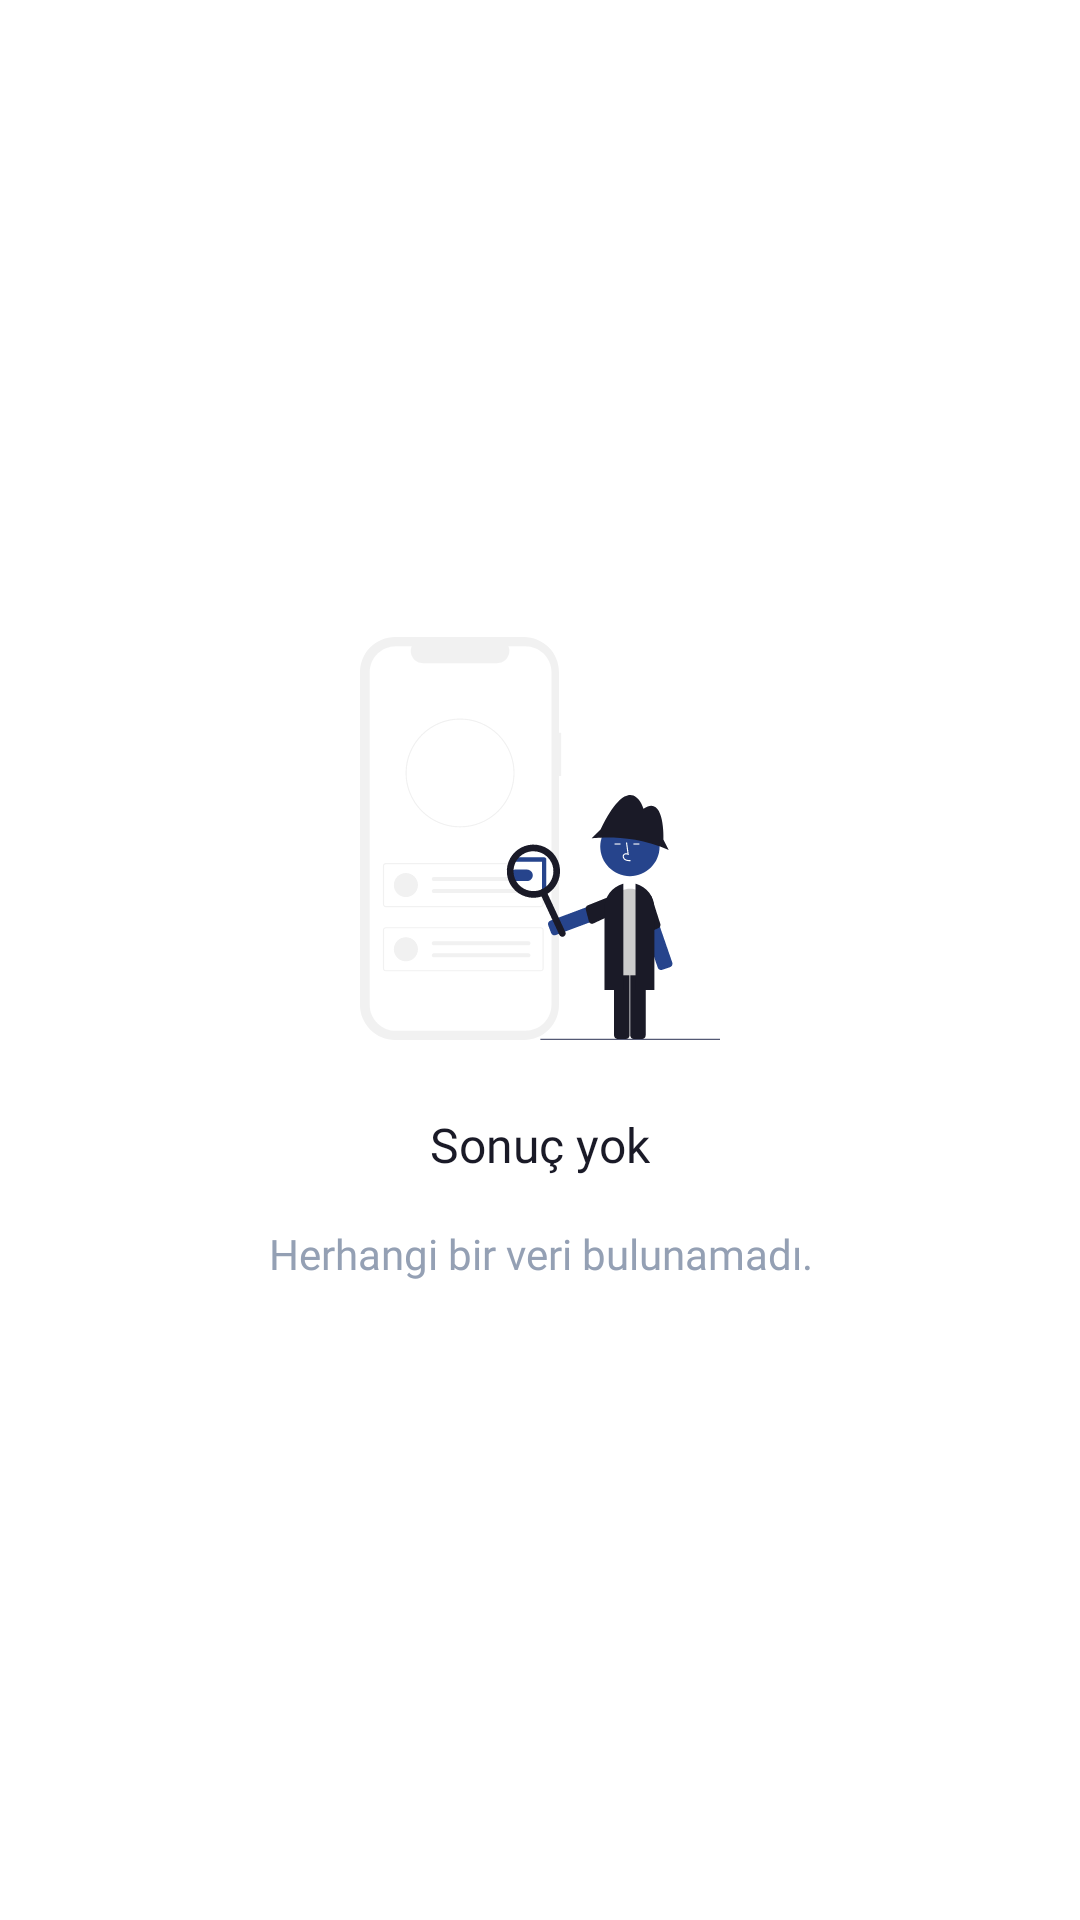

Screen size 1080*1920. Icon name, then its box in pixels as box=[x1, y1, x2, y2]:
no result: box=[506, 795, 720, 1040]
